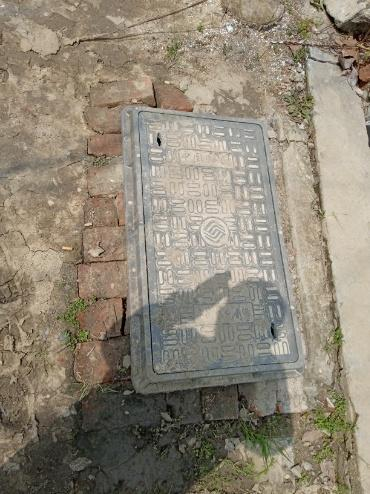wellcover: (117, 97, 303, 385)
